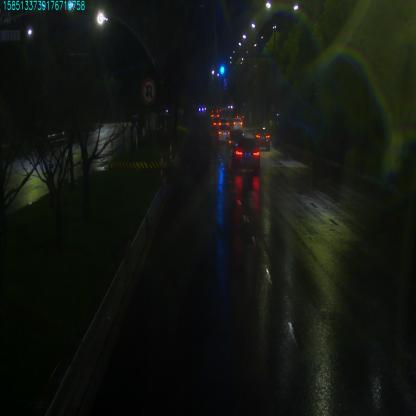traffic-light: (219, 62, 225, 75)
